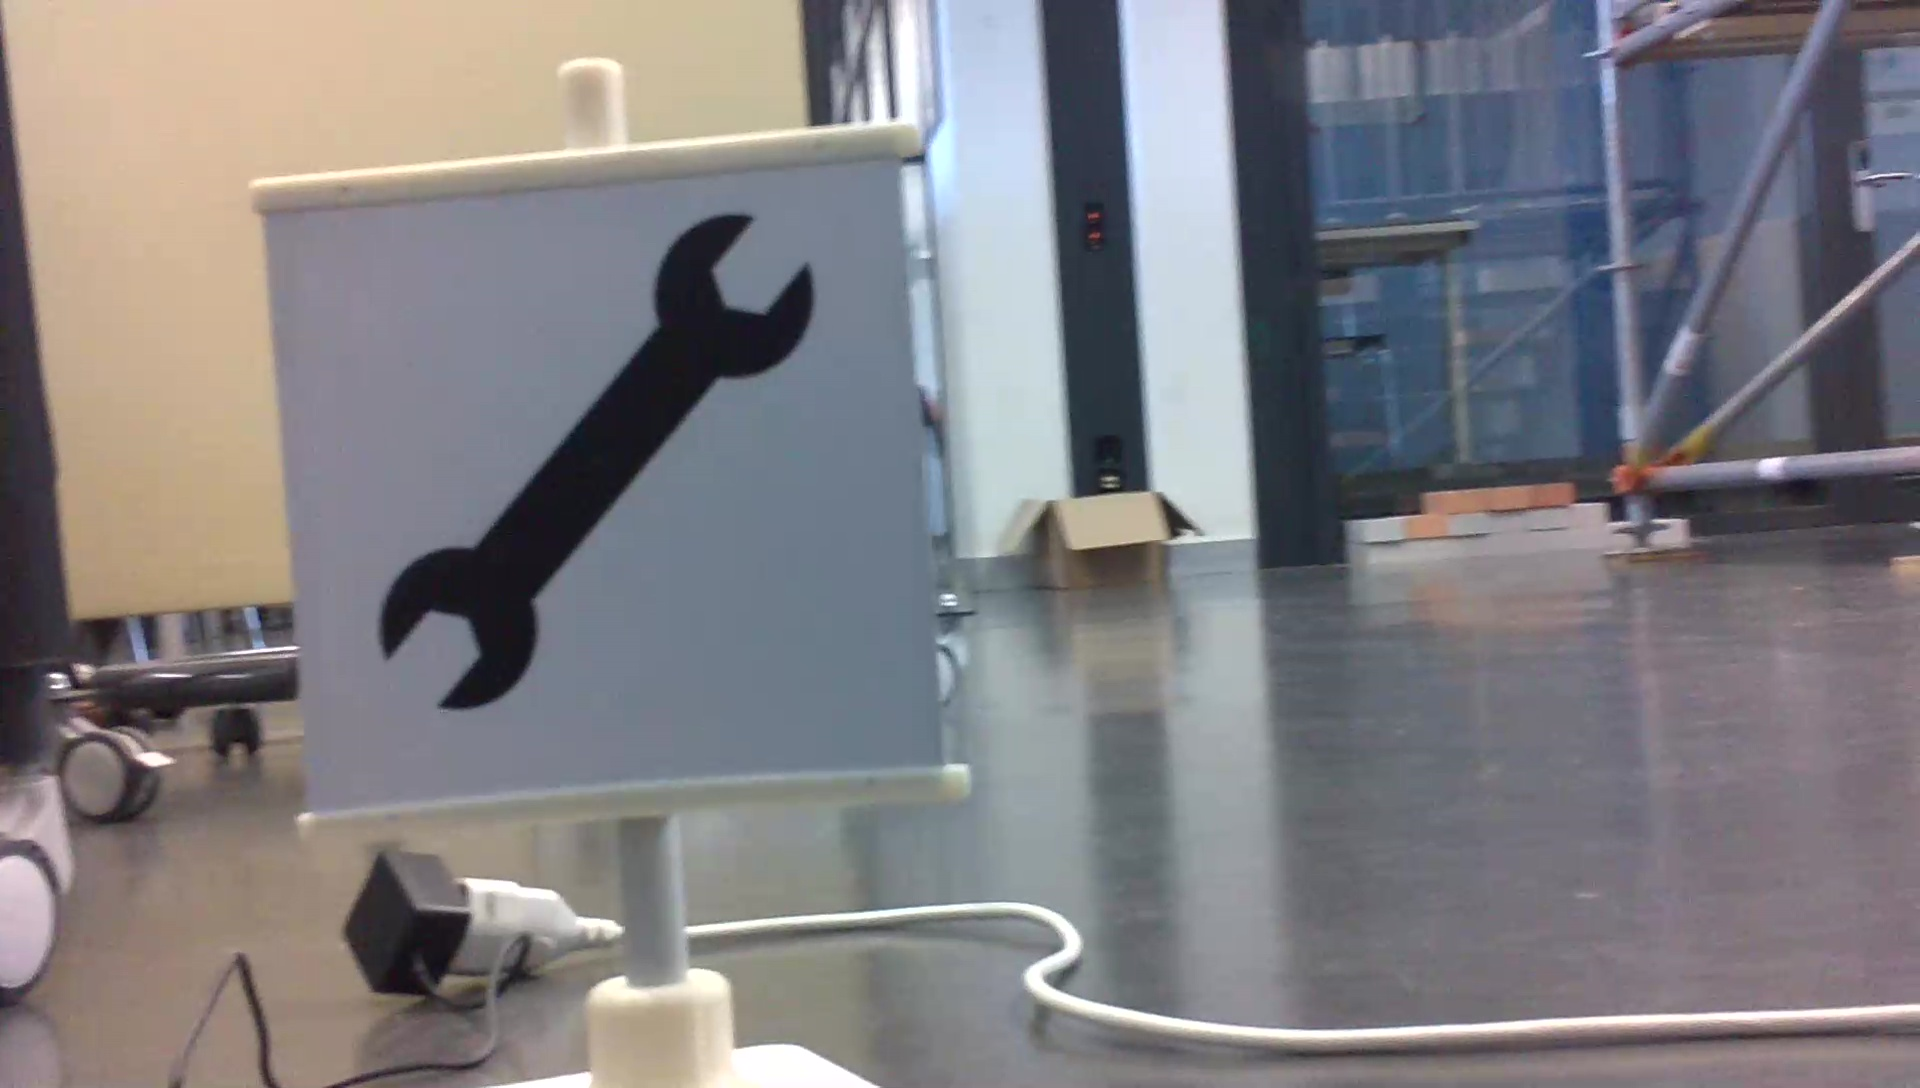wrench: (365, 206, 829, 719)
